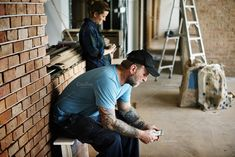unsafe person: (51, 51, 164, 146), (76, 2, 116, 67)
